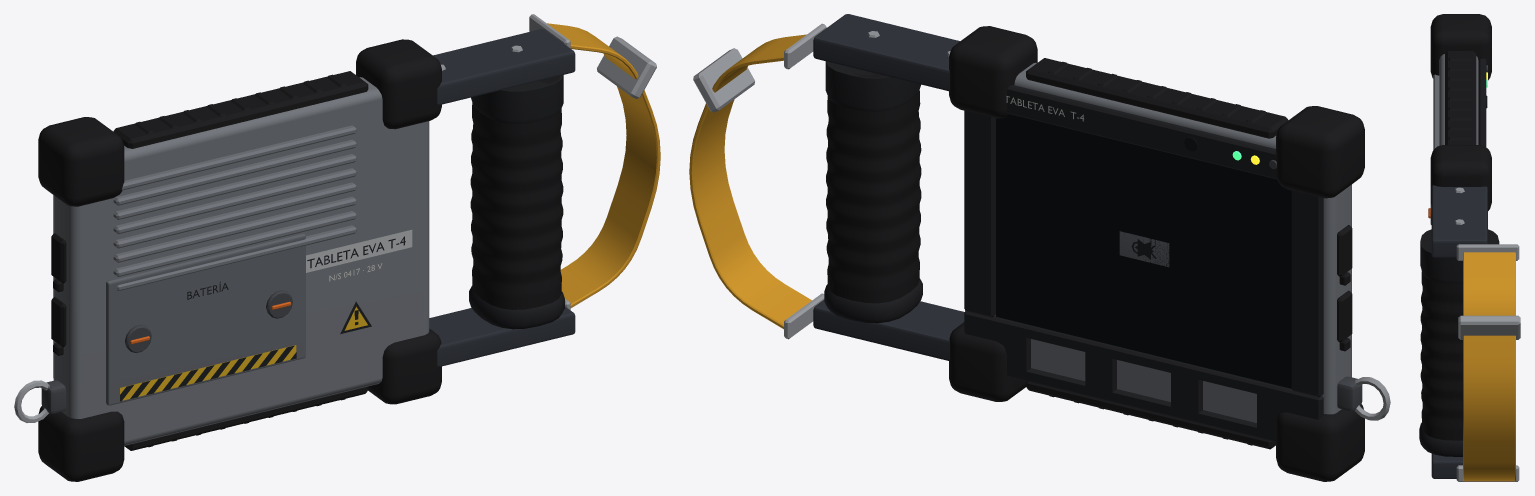
File: tableta.glb
The picture shows the model from 3 angles, left to right: view 1: azimuth 30°, elevation 25°; view 2: azimuth 150°, elevation 25°; view 3: azimuth 270°, elevation 25°; orthographic projection. The views are drawn at different scales.
Parts seen in each view (by area): view 1: cuerpo; view 2: cuerpo, boton_1; view 3: cuerpo.
Boxes of the visible parts, box(x1,y1,x2,y2) form: cuerpo: box(14, 14, 660, 481); cuerpo: box(689, 14, 1390, 481); boton_1: box(1119, 231, 1169, 267); cuerpo: box(1419, 14, 1520, 481).
Size of the model in its own units: 0.4041 by 0.202 by 0.0649.
